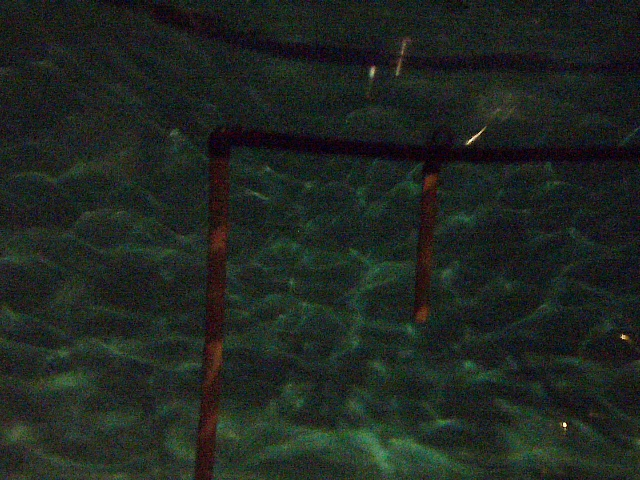Gate: (189, 153, 237, 480), (410, 155, 445, 323)
